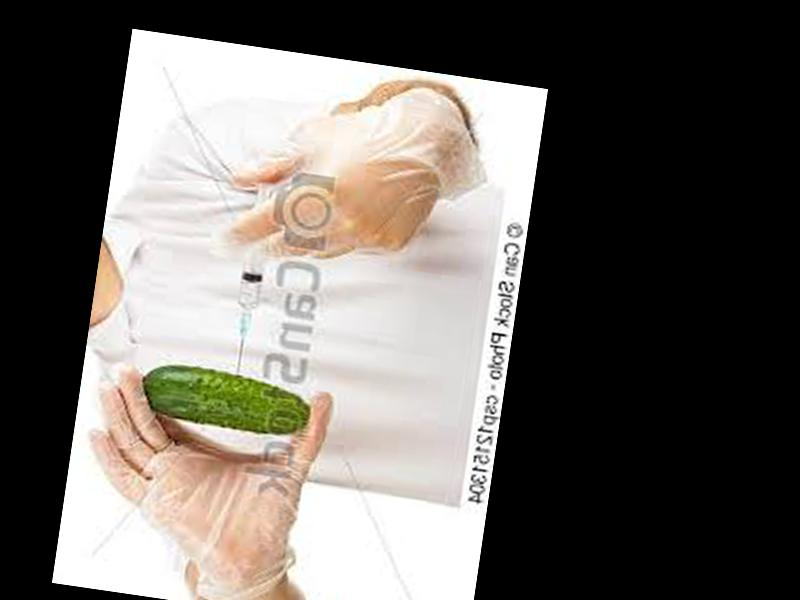Cucumber: (133, 361, 312, 441)
